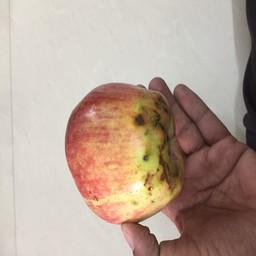Bad_apple: (64, 75, 184, 228)
